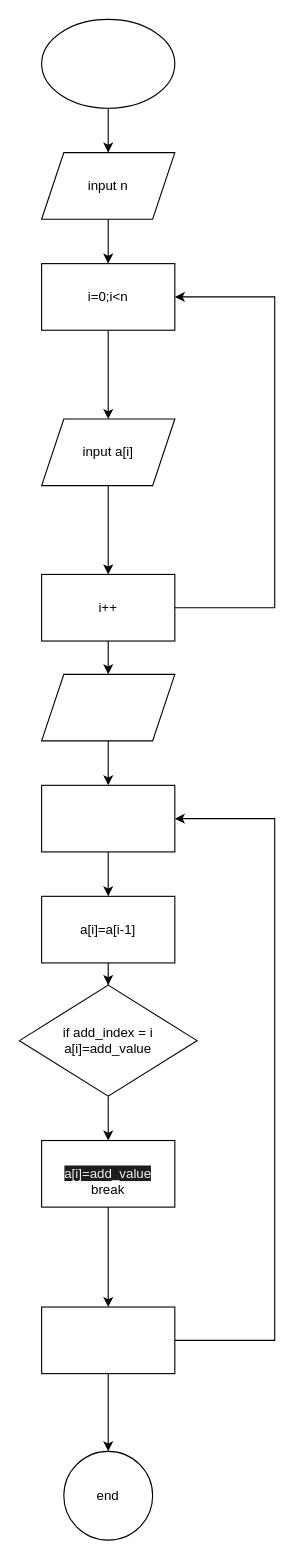
The diagram is 303 pixels wide and 1560 high, and some of its shapes have lost their labels. The centre of each missing label's shape, as x and y in pixels:
i--: the point at 108,1340
i=n;i>0: the point at 108,818
input add_value add_index: the point at 108,707
start: the point at 108,63
